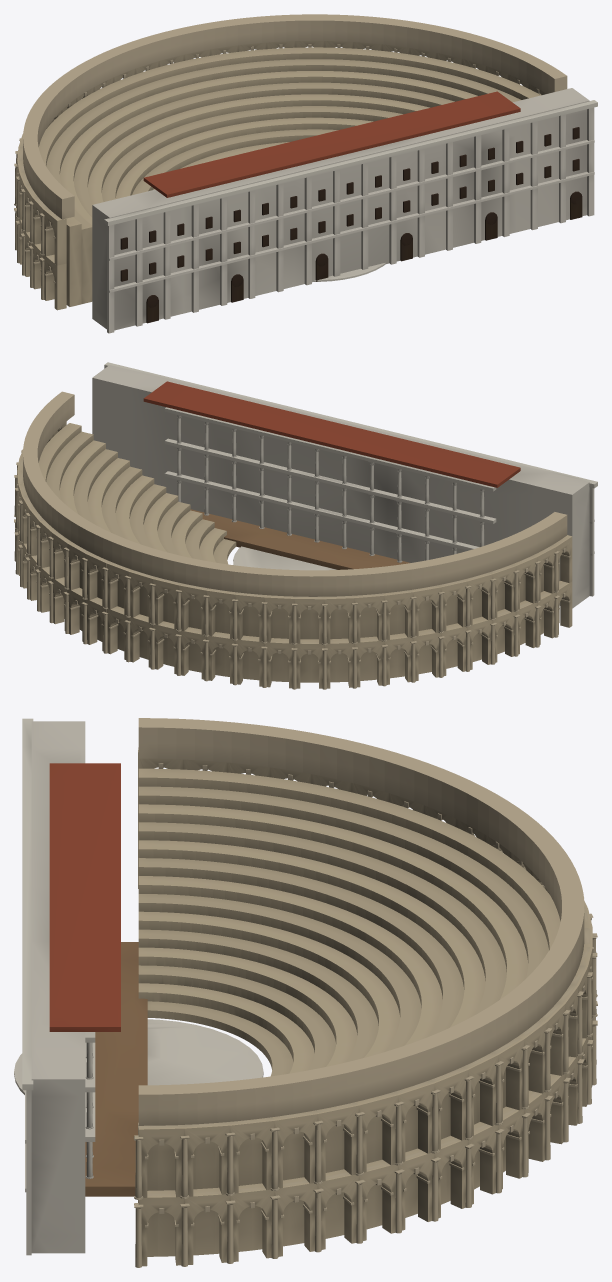
The model's file is theatre-of-marcellus.glb.
The picture shows the model from 3 angles, top to bottom: view 1: azimuth 30°, elevation 25°; view 2: azimuth 150°, elevation 25°; view 3: azimuth 270°, elevation 25°; orthographic projection. The views are drawn at different scales.
Parts seen in each view (by area): view 1: p2_stage, p0_cavea, p1_facade; view 2: p2_stage, p1_facade, p0_cavea; view 3: p0_cavea, p1_facade, p2_stage.
Boxes of the visible parts, <box> form: p2_stage: <box>92,88,597,333</box>; p0_cavea: <box>38,47,540,306</box>; p1_facade: <box>14,14,567,310</box>; p2_stage: <box>92,362,597,608</box>; p1_facade: <box>14,391,572,689</box>; p0_cavea: <box>38,423,559,682</box>; p0_cavea: <box>14,768,560,1256</box>; p1_facade: <box>133,718,597,1267</box>; p2_stage: <box>22,718,147,1255</box>.
Size of the model in its own units: 134 by 28.8 by 85.16.
